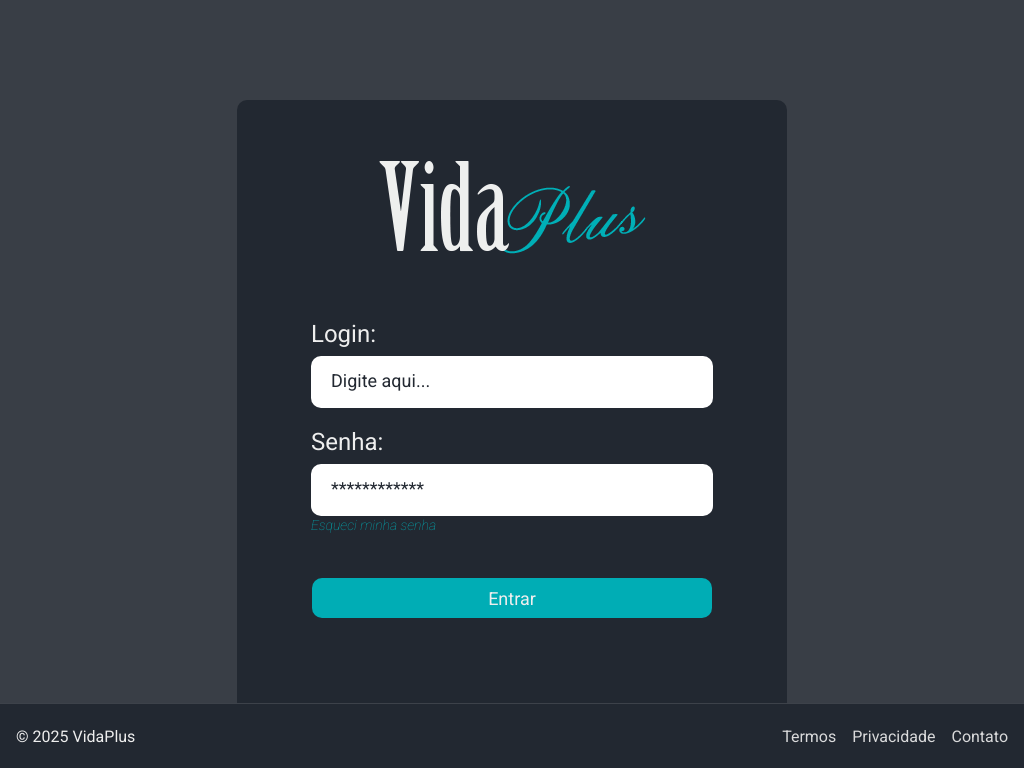
Test: Teste de Login - SGHSS › Deve exibir erro ao tentar logar com credenciais inválidas
Step 1. Type "usuarioInvalido" into the field named "login" → [512, 382], box [311, 356, 713, 408]
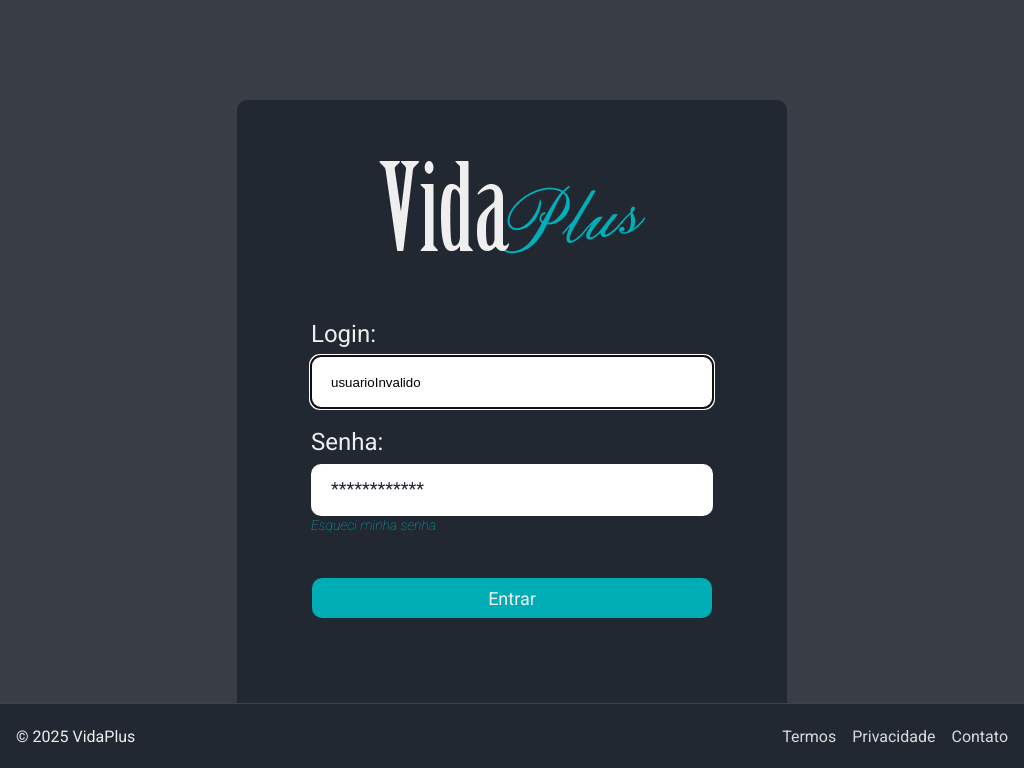
Step 2. Type "senhaErrada" into the password field named "password" → [512, 490], box [311, 464, 713, 516]
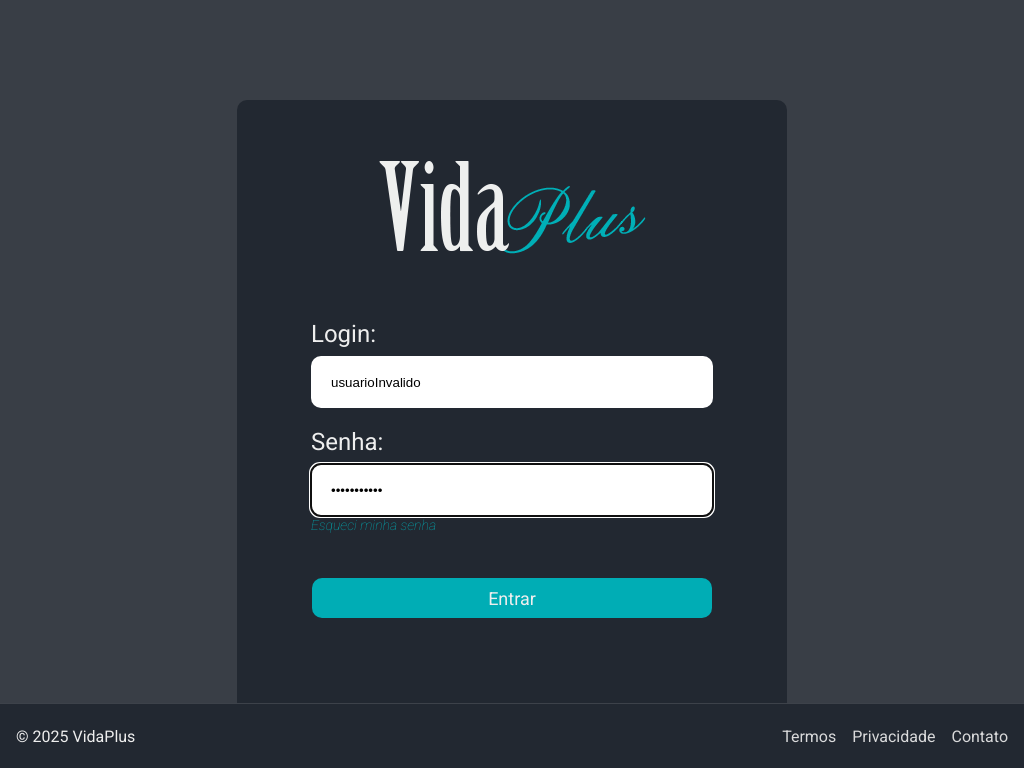
Step 3. Click the button "Entrar" → [512, 598], box [312, 578, 712, 618]
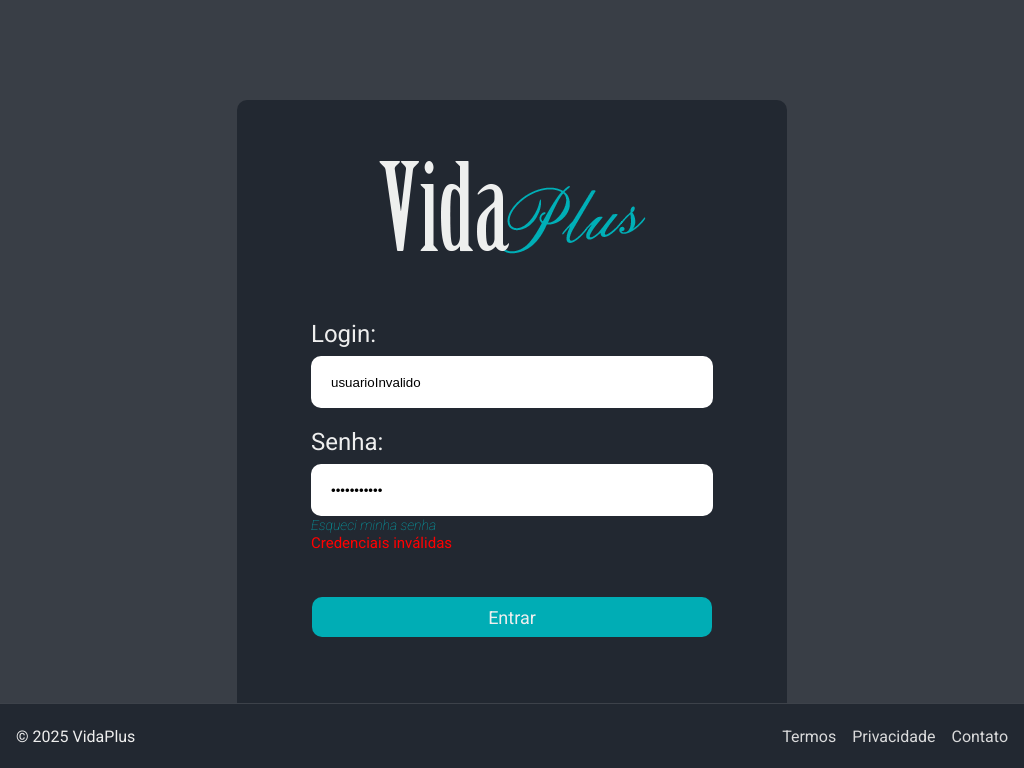
expect the text "Credenciais inválidas" is shown: met, box [311, 534, 452, 552]
